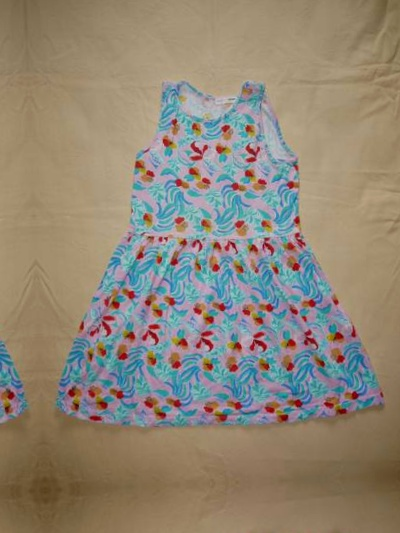Dress: (48, 68, 399, 436), (0, 83, 23, 451), (67, 530, 400, 533)
